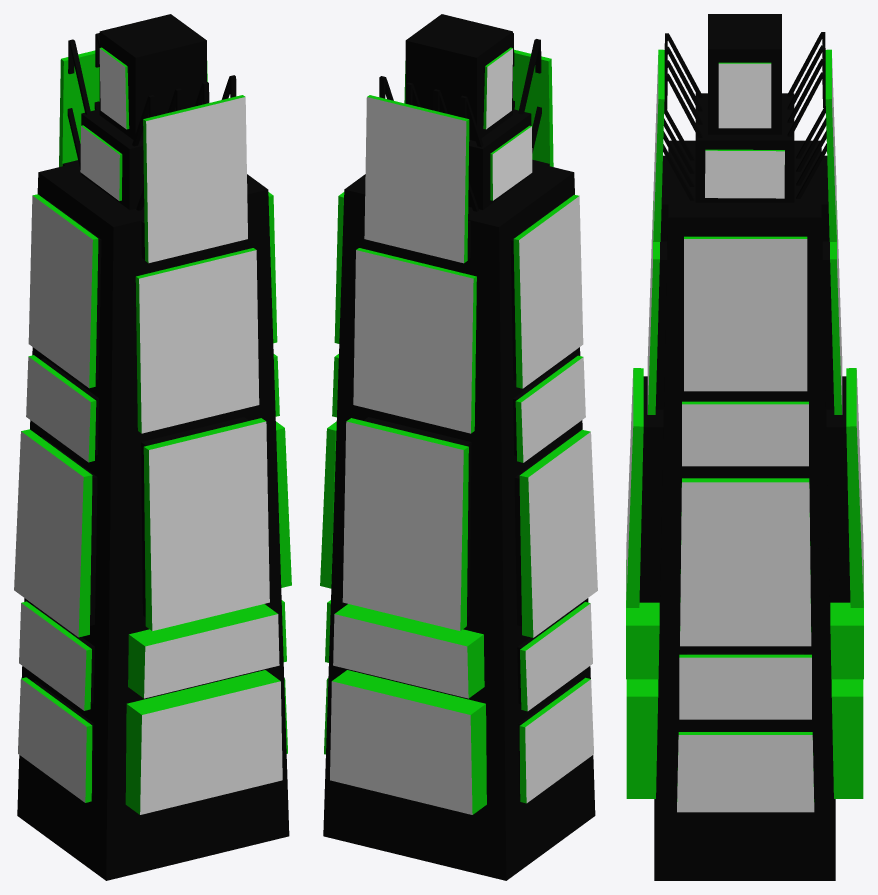
The model's file is CyberPunk_Building_v01.fbx.
3 views of the same model, side by side, from view 1: azimuth 30°, elevation 25°; view 2: azimuth 150°, elevation 25°; view 3: azimuth 270°, elevation 25° (orthographic).
Parts seen in each view (by area): view 1: Cube, Cube.001, Cube.009, Cube.005, Cube.035, Cube.027, Cube.029, Cube.006, Cube.003, Cube.025, Cube.033, Cube.031 (+10 smaller); view 2: Cube, Cube.010, Cube.015, Cube.011, Cube.036, Cube.027, Cube.029, Cube.012, Cube.003, Cube.025, Cube.033, Cube.031 (+10 smaller); view 3: Cube, Cube.017, Cube.019, Cube.004, Cube.023, Cube.021, Cube.003, Cube.007, Cube.013, Cube.060, Cube.002, Cube.005 (+16 smaller).
Boxes of the visible parts, x1=… form: Cube: x1=17, y1=162, x2=289, y2=880; Cube.001: x1=143, y1=418, x2=269, y2=630; Cube.009: x1=135, y1=248, x2=259, y2=433; Cube.005: x1=125, y1=670, x2=282, y2=814; Cube.035: x1=143, y1=95, x2=247, y2=263; Cube.027: x1=14, y1=429, x2=92, y2=637; Cube.029: x1=28, y1=194, x2=98, y2=388; Cube.006: x1=128, y1=604, x2=279, y2=698; Cube.003: x1=99, y1=14, x2=206, y2=140; Cube.025: x1=18, y1=677, x2=92, y2=802; Cube.033: x1=19, y1=601, x2=91, y2=710; Cube.031: x1=26, y1=355, x2=96, y2=462; Cube: x1=323, y1=162, x2=595, y2=880; Cube.010: x1=342, y1=418, x2=468, y2=630; Cube.015: x1=353, y1=248, x2=476, y2=433; Cube.011: x1=330, y1=670, x2=486, y2=814; Cube.036: x1=364, y1=95, x2=469, y2=263; Cube.027: x1=519, y1=429, x2=597, y2=637; Cube.029: x1=513, y1=194, x2=583, y2=388; Cube.012: x1=333, y1=604, x2=484, y2=698; Cube.003: x1=405, y1=14, x2=512, y2=141; Cube.025: x1=519, y1=677, x2=593, y2=803; Cube.033: x1=520, y1=602, x2=592, y2=711; Cube.031: x1=515, y1=355, x2=585, y2=462; Cube: x1=654, y1=140, x2=835, y2=880; Cube.017: x1=680, y1=478, x2=811, y2=646; Cube.019: x1=684, y1=236, x2=807, y2=391; Cube.004: x1=677, y1=732, x2=814, y2=812; Cube.023: x1=679, y1=654, x2=811, y2=719; Cube.021: x1=682, y1=401, x2=808, y2=466; Cube.003: x1=708, y1=14, x2=781, y2=134; Cube.007: x1=639, y1=376, x2=663, y2=602; Cube.013: x1=826, y1=376, x2=850, y2=602; Cube.060: x1=705, y1=149, x2=784, y2=198; Cube.002: x1=695, y1=93, x2=794, y2=202; Cube.005: x1=626, y1=679, x2=658, y2=798.
Bounding box in the file's own units: 229 × 812 × 218.
